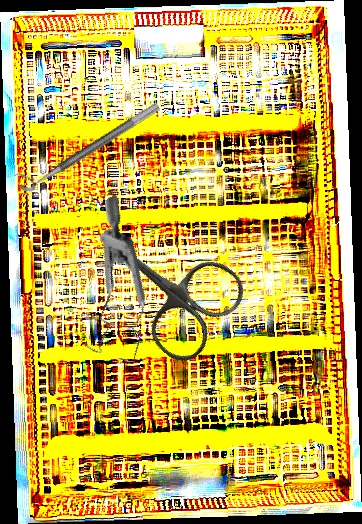Fixation Ring: (12, 90, 162, 196)
Iris Scissors: (74, 197, 254, 371)
Speculum: (23, 193, 198, 379)
